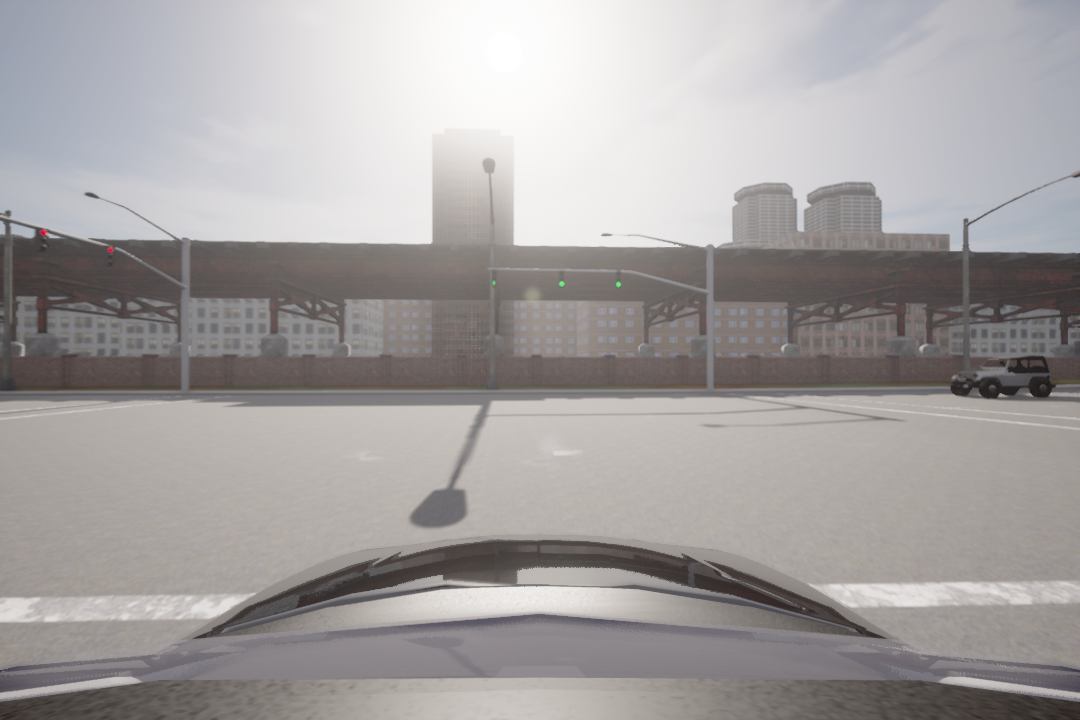TrafficLight: (32, 224, 49, 255), (555, 269, 567, 292), (103, 244, 114, 268), (612, 268, 624, 289), (488, 267, 498, 290)
